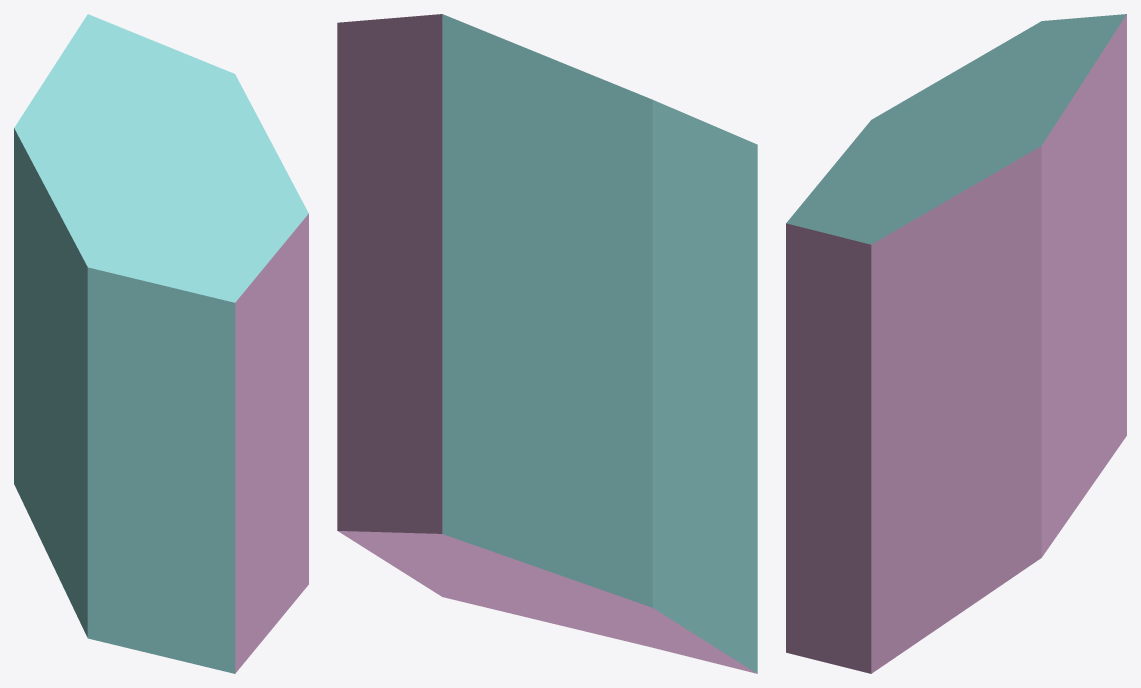
File: crystal.fbx
3 views of the same model, side by side, from view 1: azimuth 30°, elevation 25°; view 2: azimuth 150°, elevation 25°; view 3: azimuth 270°, elevation 25° (orthographic). The views are drawn at different scales.
Parts seen in each view (by area): view 1: Cylinder; view 2: Cylinder; view 3: Cylinder.
Part boxes in pixels (x1,y1,x2,y2): Cylinder: (14, 14, 308, 673); Cylinder: (337, 14, 757, 673); Cylinder: (786, 14, 1126, 673).
Size of the model in its own units: 173 by 413 by 200.
